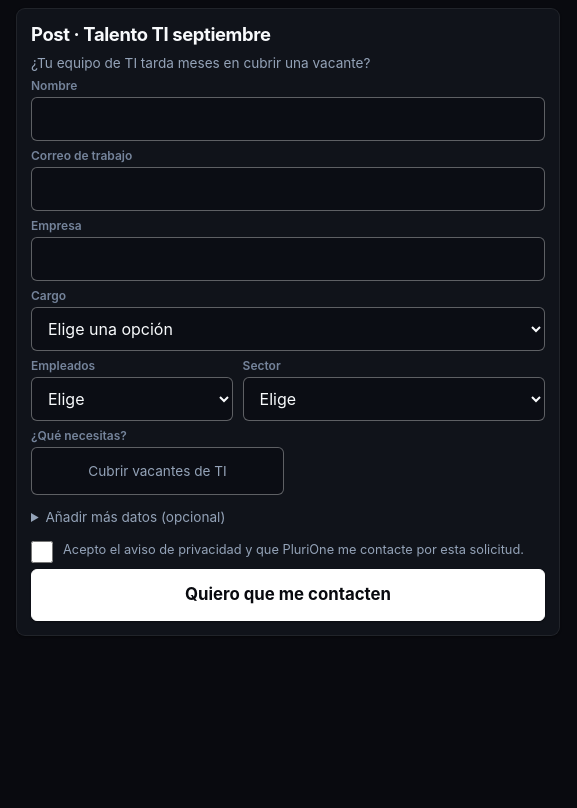
it: la página de interés › cada error de campo va atado a su campo, y dice que el campo está mal
Expected: the dropdown labelled "Cargo" is shown, [31,307,545,351]
Click the button "Quiero que me contacten" at [288, 595], box [31,569,545,621]
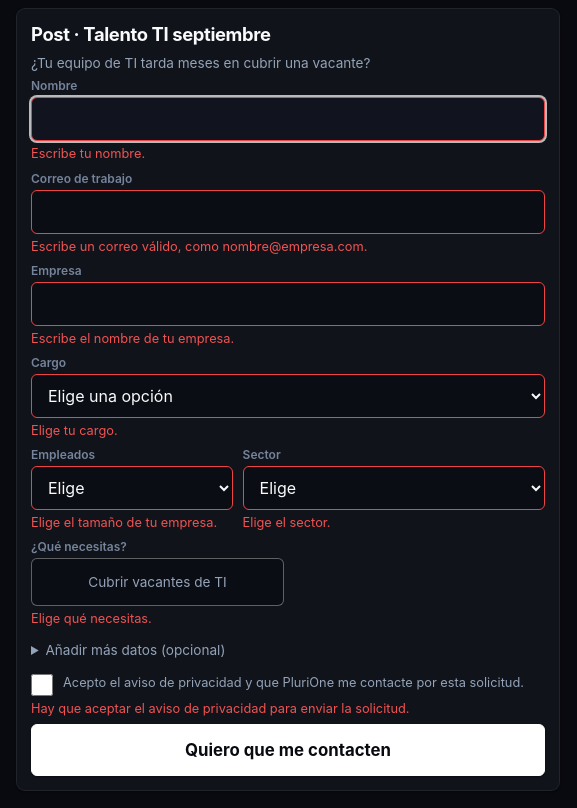
Expected: the text "Escribe tu nombre." is shown, [31,146,145,161]
Expected: the text "Escribe un correo válido, como nombre@empresa.com." is shown, [31,238,367,254]
Expected: the text "Escribe el nombre de tu empresa." is shown, [31,331,234,346]
